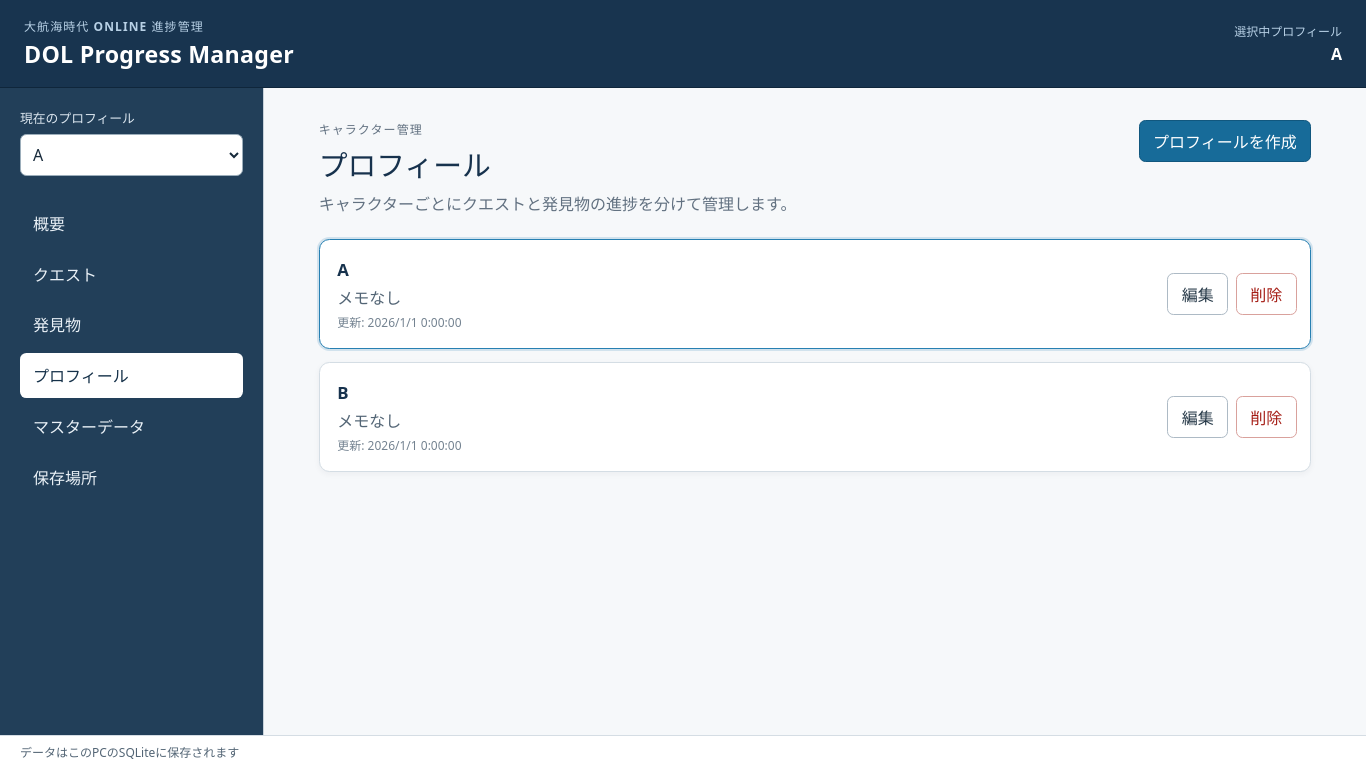
Scenario: Quest UI › passes master notes to the popup without changing completion, and closes on profile or page changes
The width and height of the screenshot is (1366, 768).
Expected: the heading "プロフィール" is shown, [319,145,491,184]
Click the button "クエスト".
click(132, 274)  # box [20,251,243,296]
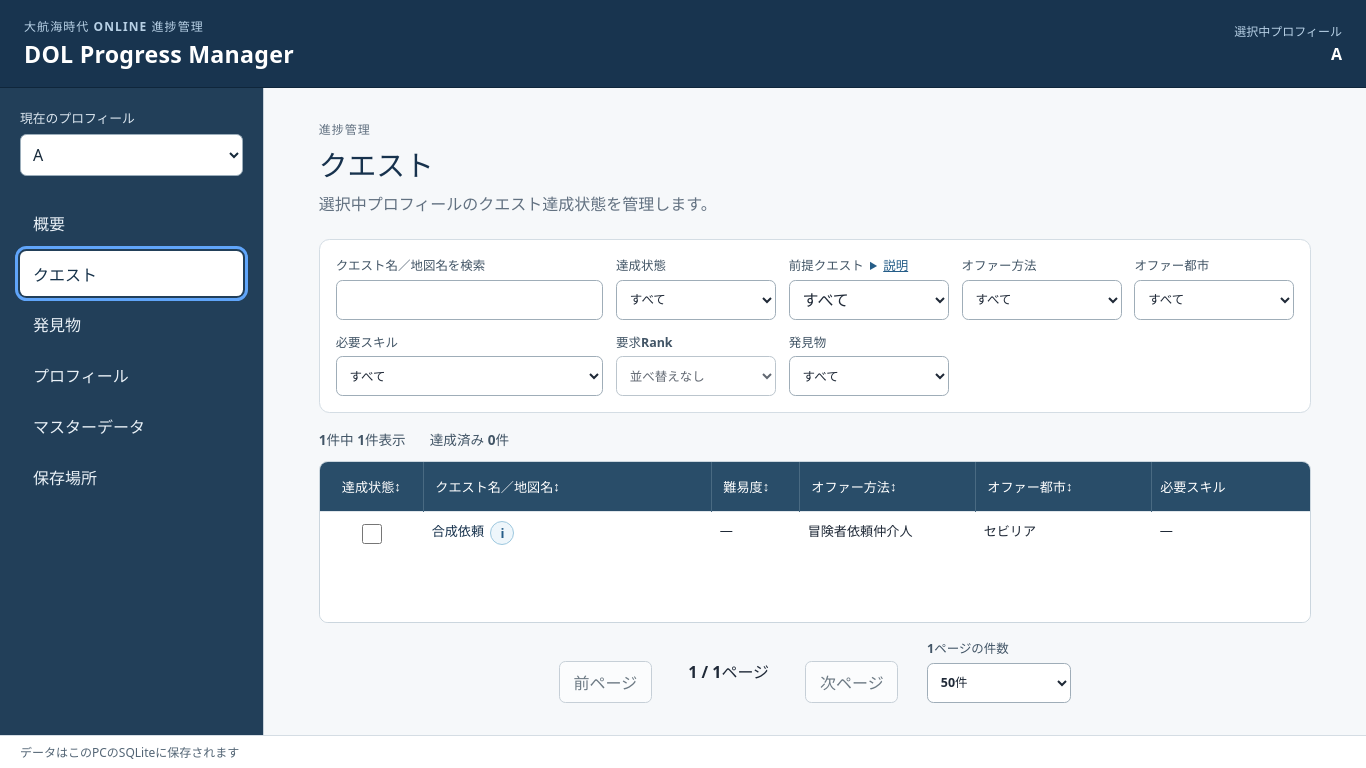
Now the table is shown, box [320,462,1311,557]
Click the button named "合成依頼の備考を表示".
click(502, 533)  # box [490,521,514,545]
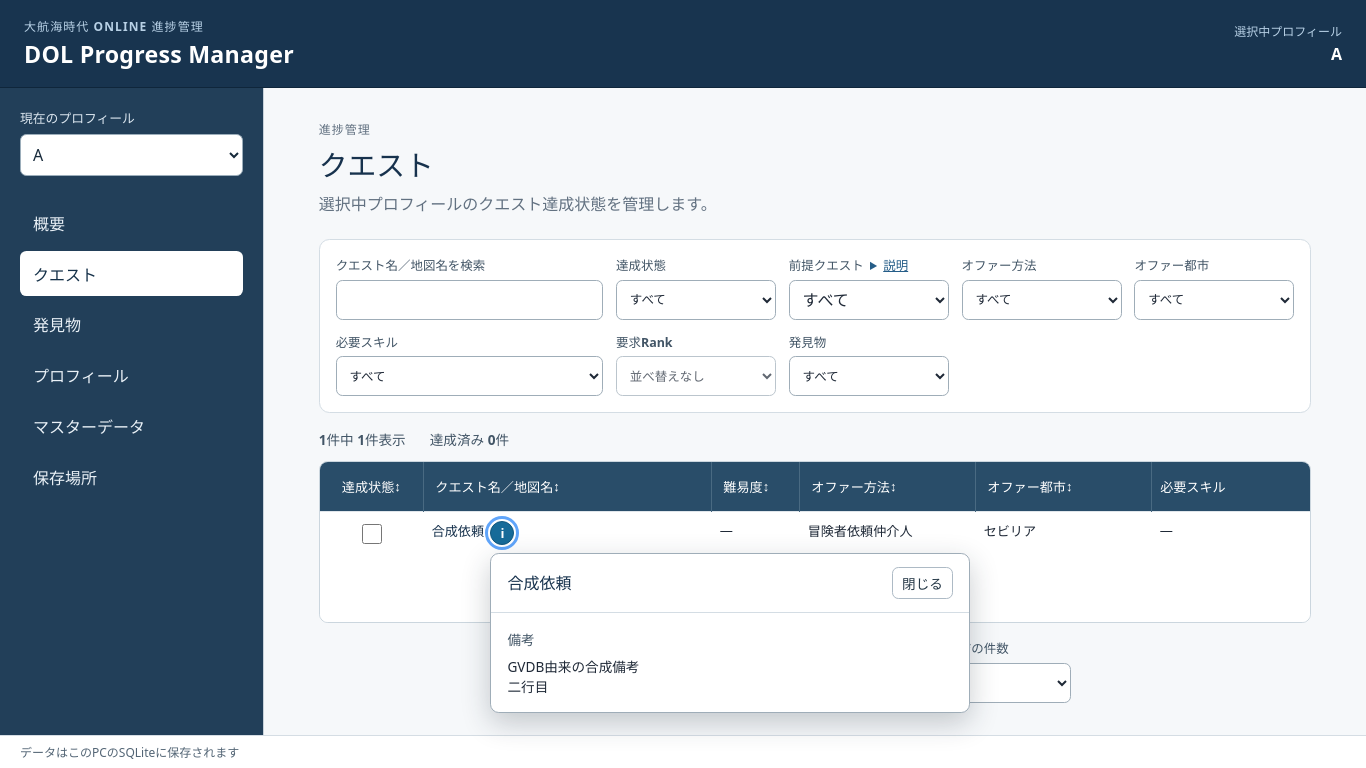
Now the dialog "合成依頼" shows "GVDB由来の合成備考", box [508,657,640,696]
Select "B" in the dropdown labelled "現在のプロフィール" at x=132, y=155, box [20,134,243,176]
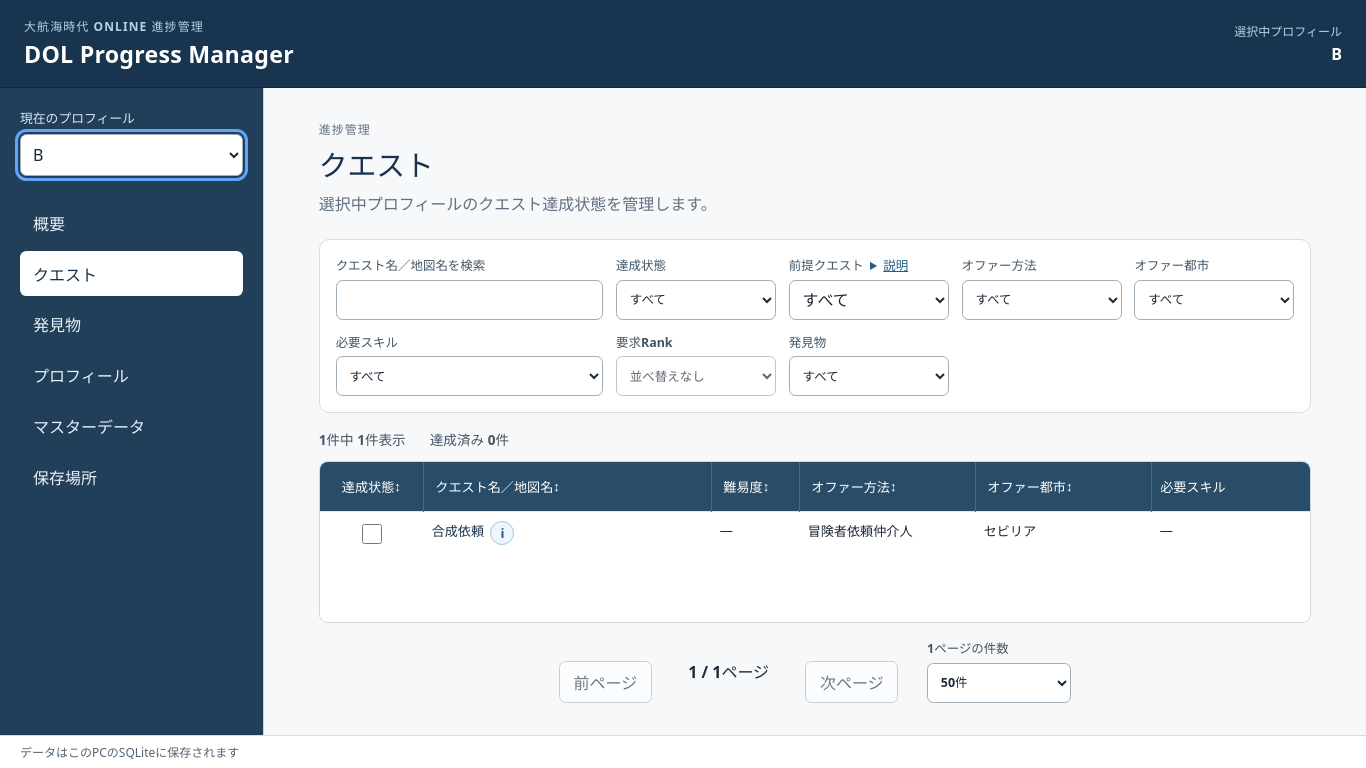
Now the table is shown, box [320,462,1311,557]
Now the dialog is gone
Click the button named "合成依頼の備考を表示".
click(502, 533)  # box [490,521,514,545]
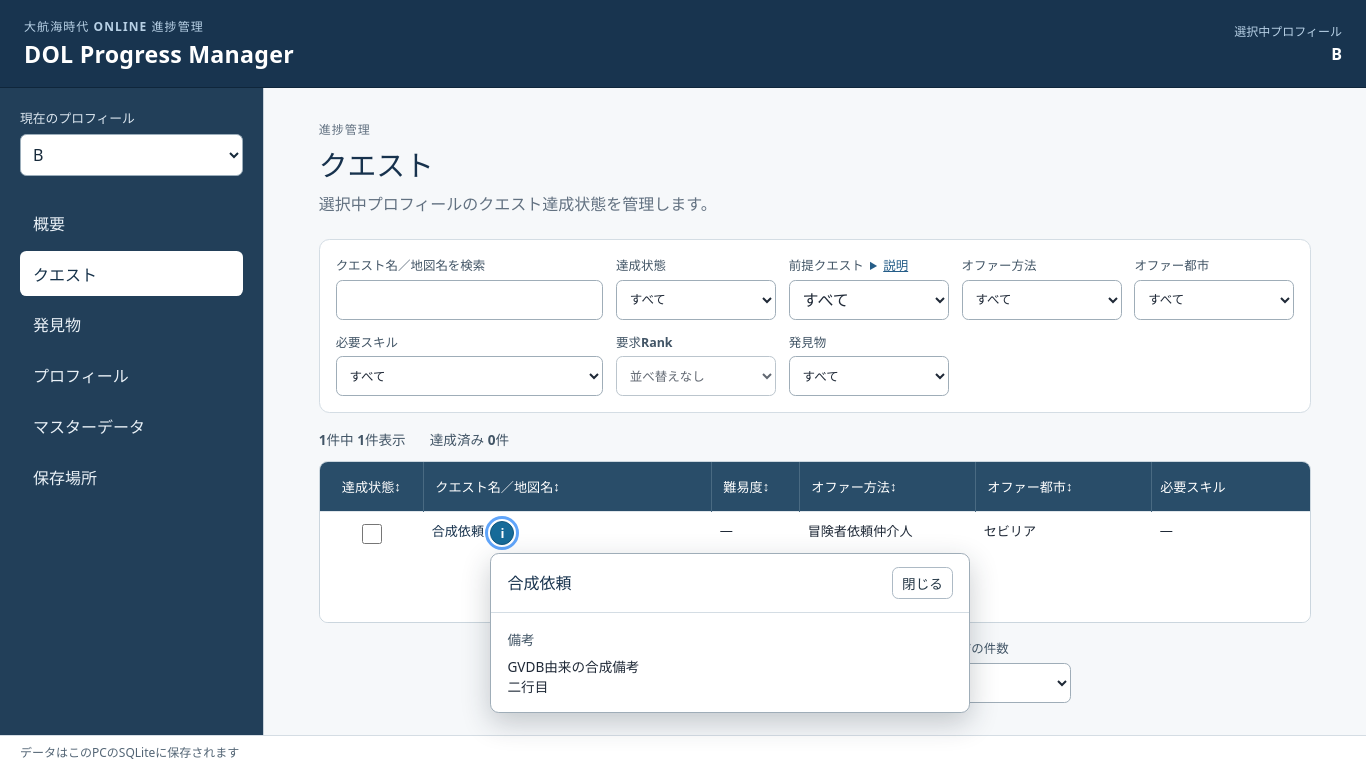
Click the button "プロフィール".
click(132, 375)  # box [20,352,243,398]
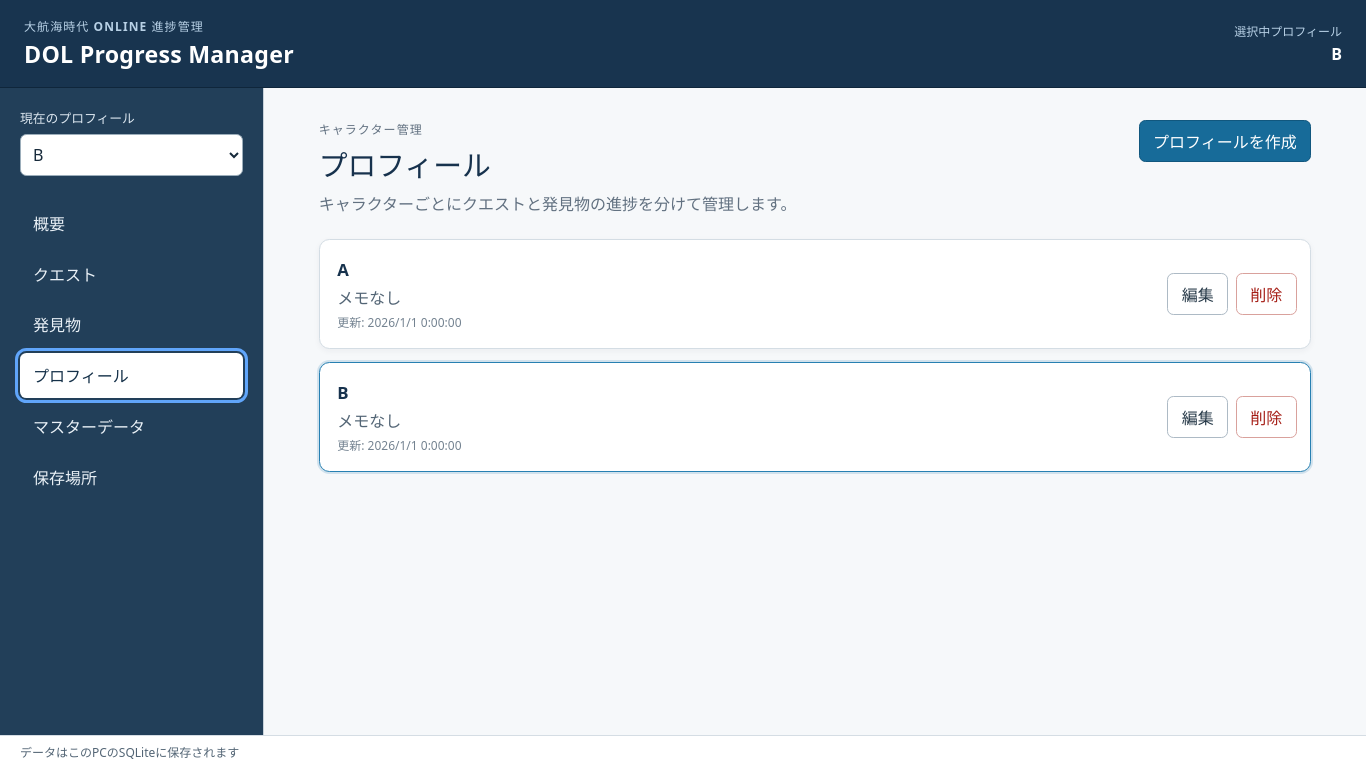
Now the dialog is gone
